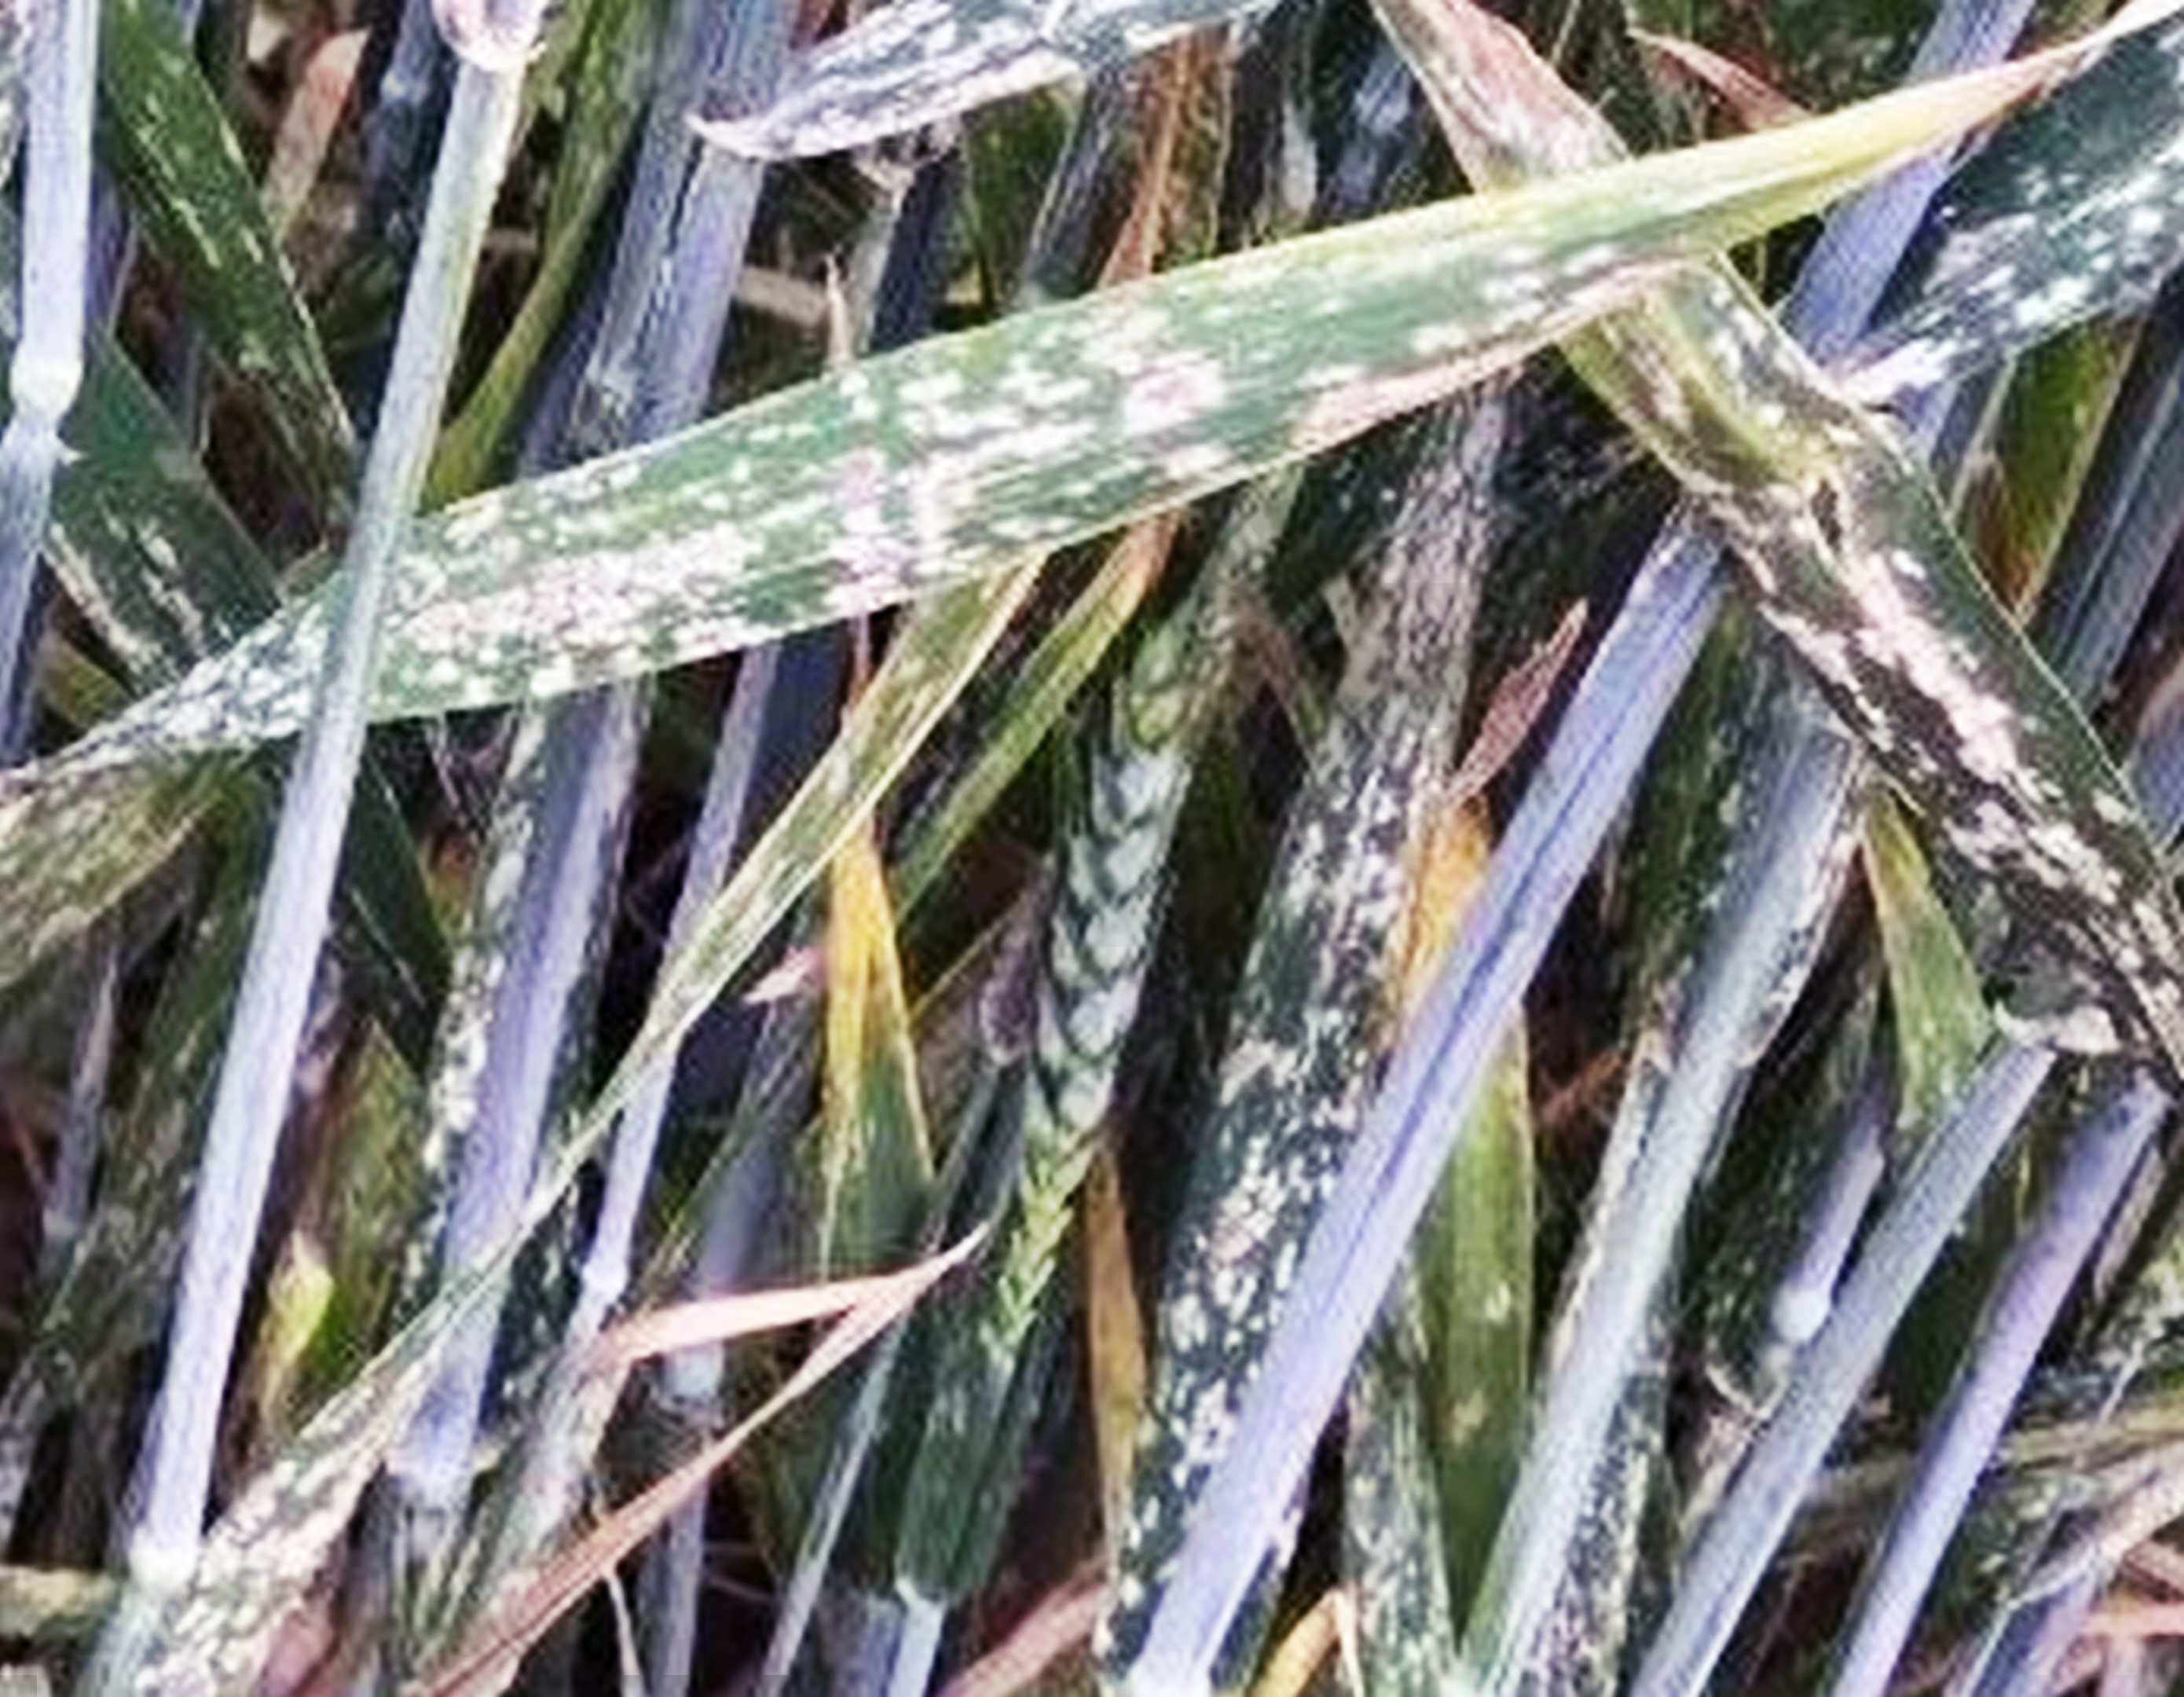Powdery Mildew: (1149, 527, 1530, 1357), (1769, 514, 2184, 954)
